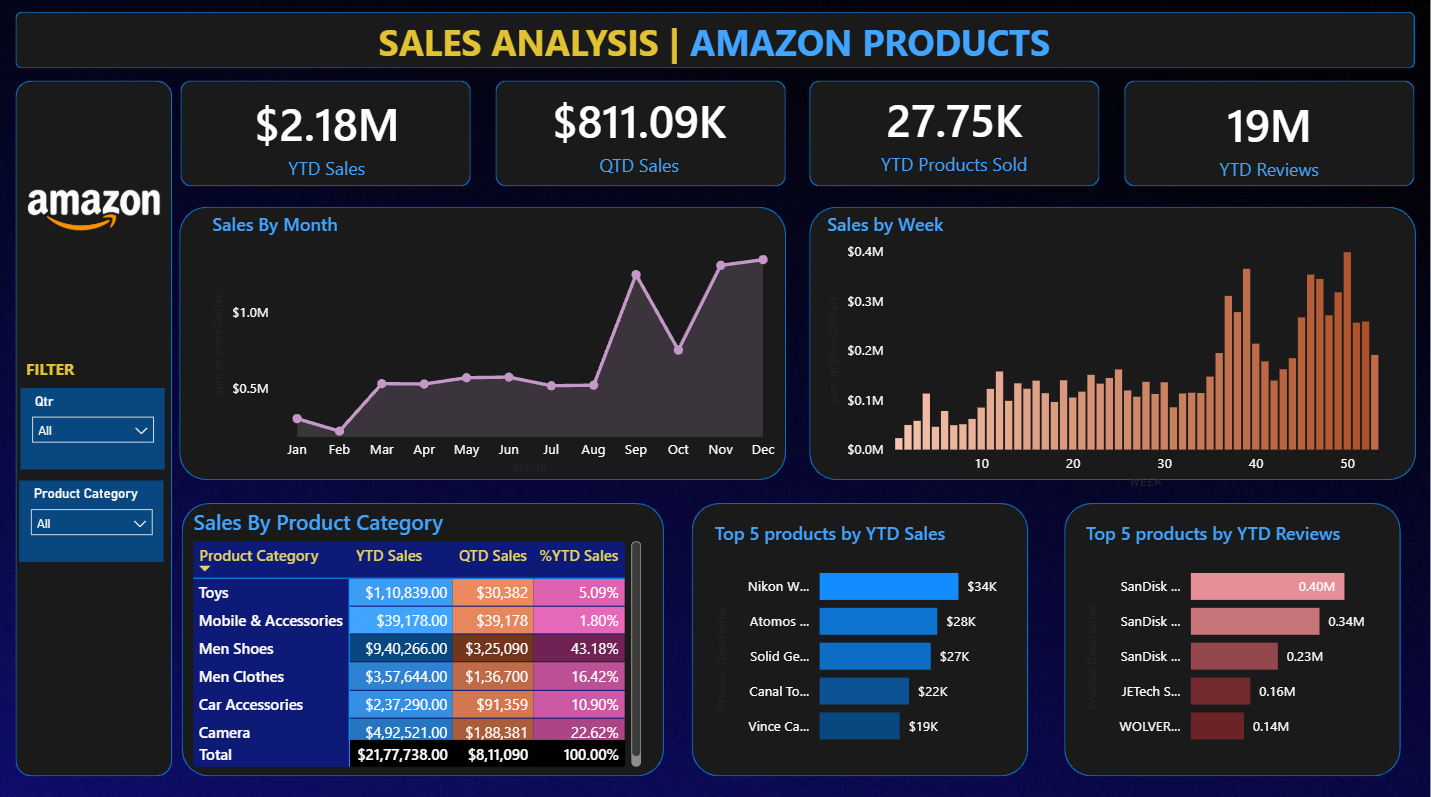

The dashboard page shown, as its layout file describes it:
{"tool":"powerbi","page":{"name":"Page 1","canvas":[1280,720],"ordinal":0},"visuals":[{"type":"shape","box":[15.1,12.3,1250.1,50.8],"z":0},{"type":"textbox","box":[334.8,12.3,610.6,57.6],"z":1000},{"type":"shape","box":[15.1,74.1,140,621.6],"z":2000},{"type":"shape","box":[163.6,73.3,259.3,94.7],"z":3000},{"type":"cardVisual","fields":{"Data":["Amazon_Data.YTD Sales"]},"box":[164.7,15.1,259.3,215.4],"z":4000},{"type":"shape","box":[444.3,73.3,259.3,94.7],"z":5000},{"type":"shape","box":[725.1,73.3,259.3,94.7],"z":6000},{"type":"shape","box":[1005.8,74.1,259.3,94.7],"z":7000},{"type":"cardVisual","fields":{"Data":["Amazon_Data.YTD Products Sold"]},"box":[724.5,12.3,259.3,215.4],"z":8000},{"type":"cardVisual","fields":{"Data":["Amazon_Data.QTD Sales"]},"box":[443.2,13.7,259.3,215.4],"z":9000},{"type":"cardVisual","fields":{"Data":["Amazon_Data.YTD Reviews"]},"box":[1005.8,16.5,259.3,215.4],"z":10000},{"type":"shape","box":[161.9,186.6,542,244.3],"z":11000},{"type":"areaChart","title":"Sales By Month","fields":{"Category":["date_table.Month"],"Y":["Sum(Amazon_Data.Price(Dollar))"]},"box":[186.6,190.7,517.3,240.1],"z":12000},{"type":"shape","box":[724.5,186.6,542,244.3],"z":13000},{"type":"columnChart","title":"Sales by Week","fields":{"Category":["date_table.WEEK"],"Y":["Sum(Amazon_Data.Price(Dollar))"]},"box":[735.5,190.7,522.8,252.5],"z":14000},{"type":"shape","box":[164.7,451.5,430.9,244.3],"z":15000},{"type":"pivotTable","title":"Sales By Product Category","fields":{"Rows":["Amazon_Data.Product Category"],"Values":["Amazon_Data.YTD Sales1","Amazon_Data.QTD Sales","Amazon_Data.YTD Sales"]},"box":[170.2,455.6,410,236],"z":16000},{"type":"shape","box":[620.2,451.5,300.5,244.3],"z":17000},{"type":"clusteredBarChart","title":"Top 5 products by YTD Sales","fields":{"Category":["Amazon_Data.Product Description"],"Y":["Amazon_Data.YTD Sales"]},"box":[635.3,466.6,271.7,214.1],"z":18000},{"type":"shape","box":[952.3,451.5,300.5,244.3],"z":19000},{"type":"clusteredBarChart","title":"Top 5 products by YTD Reviews","fields":{"Category":["Amazon_Data.Product Description"],"Y":["Amazon_Data.YTD Reviews"]},"box":[967.4,466.6,271.7,214.1],"z":20000},{"type":"slicer","fields":{"Values":["Amazon_Data.Product Category"]},"box":[19.2,430.9,129,72.7],"z":21000},{"type":"slicer","fields":{"Values":["date_table.Qtr"]},"box":[20.6,348.5,129,72.7],"z":22000},{"type":"image","box":[22,100.2,126.2,171.5],"z":23000},{"type":"textbox","box":[20.6,317,108.4,37],"z":24000}]}

Visuals, with their boxes in screenshot pixels (x1, y1, x2, y2), scaled from the page's 1280x720 canvas onto the 1431x797 screenshot:
shape: l=17, t=14, r=1414, b=70
textbox: l=374, t=14, r=1057, b=77
shape: l=17, t=82, r=173, b=770
shape: l=183, t=81, r=473, b=186
cardVisual - Amazon_Data.YTD Sales: l=184, t=17, r=474, b=255
shape: l=497, t=81, r=787, b=186
shape: l=811, t=81, r=1101, b=186
shape: l=1124, t=82, r=1414, b=187
cardVisual - Amazon_Data.YTD Products Sold: l=810, t=14, r=1100, b=252
cardVisual - Amazon_Data.QTD Sales: l=495, t=15, r=785, b=254
cardVisual - Amazon_Data.YTD Reviews: l=1124, t=18, r=1414, b=257
shape: l=181, t=207, r=787, b=477
"Sales By Month" areaChart: l=209, t=211, r=787, b=477
shape: l=810, t=207, r=1416, b=477
"Sales by Week" columnChart: l=822, t=211, r=1407, b=491
shape: l=184, t=500, r=666, b=770
"Sales By Product Category" pivotTable: l=190, t=504, r=649, b=766
shape: l=693, t=500, r=1029, b=770
"Top 5 products by YTD Sales" clusteredBarChart: l=710, t=517, r=1014, b=753
shape: l=1065, t=500, r=1401, b=770
"Top 5 products by YTD Reviews" clusteredBarChart: l=1082, t=517, r=1385, b=753
slicer - Amazon_Data.Product Category: l=21, t=477, r=166, b=557
slicer - date_table.Qtr: l=23, t=386, r=167, b=466
image: l=25, t=111, r=166, b=301
textbox: l=23, t=351, r=144, b=392
